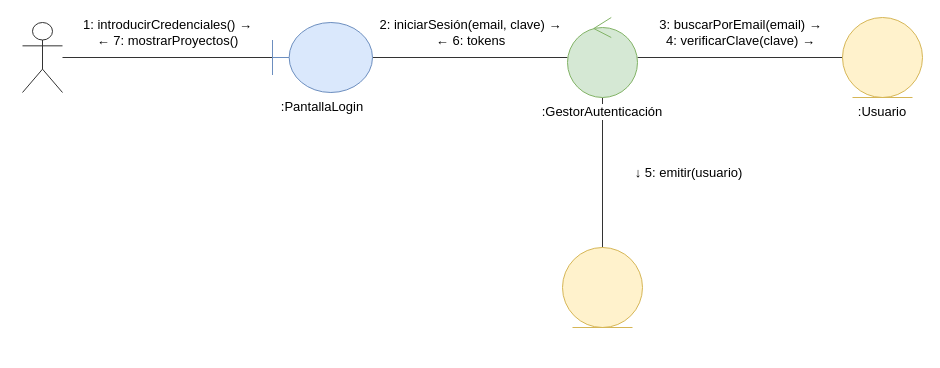
Image size: 940x368. Some labels were removed from this diagram. The shapes that lost their labels are listed below. From the top down, each one's centre as x and y in pixels, then its label:
the point at 42,57: Visitante
the point at 602,287: :TokenRefresco
